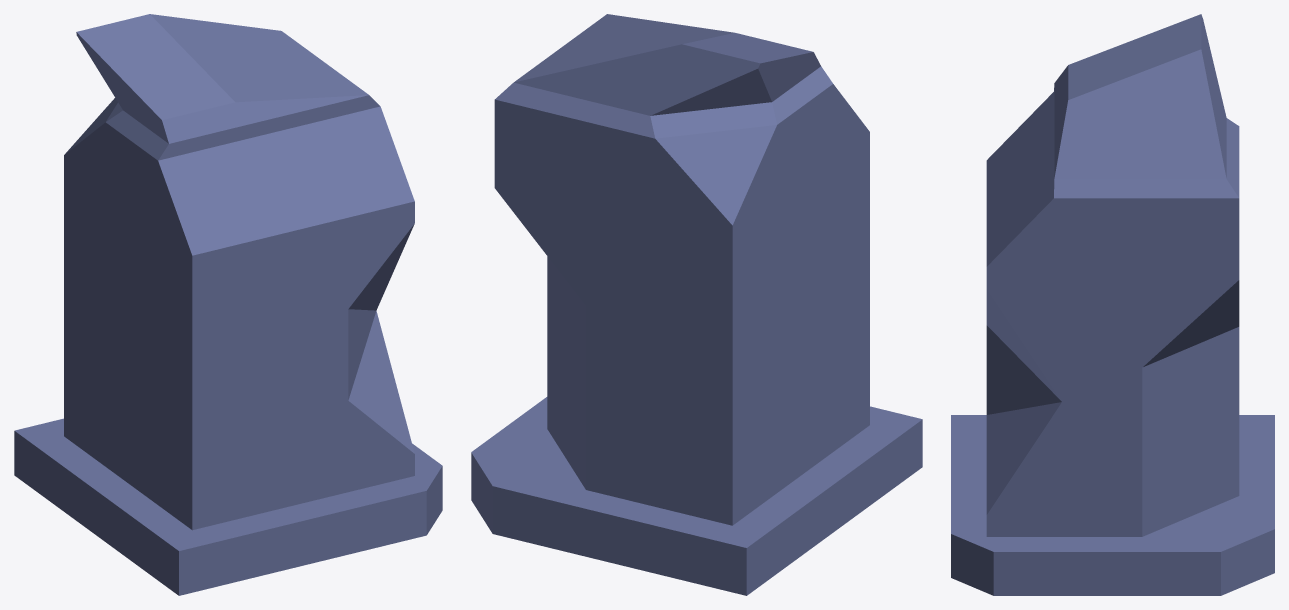
Rendered from column_2_dstr_1.fbx.
3 renders of one model, left to right at view 1: azimuth 30°, elevation 25°; view 2: azimuth 150°, elevation 25°; view 3: azimuth 270°, elevation 25°, orthographic. The views are drawn at different scales.
Visible parts, largest first — view 1: column_2_dstr_1; view 2: column_2_dstr_1; view 3: column_2_dstr_1.
Boxes of the visible parts, x1,y1,x2,y2 form: column_2_dstr_1: [14, 14, 442, 595]; column_2_dstr_1: [471, 14, 922, 595]; column_2_dstr_1: [951, 14, 1274, 595].
Size of the model in its own units: 2.6 by 4.05 by 2.6.
